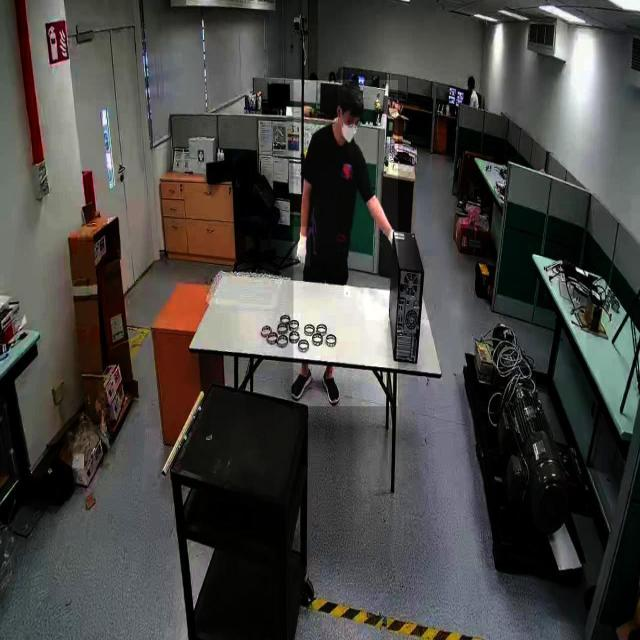face_mask: (333, 103, 361, 155)
hand_glove: (292, 226, 311, 268)
head_nohelmet: (338, 79, 363, 104), (467, 74, 475, 82)
person: (294, 80, 398, 407)
shoes: (289, 364, 314, 406), (319, 368, 340, 411)
